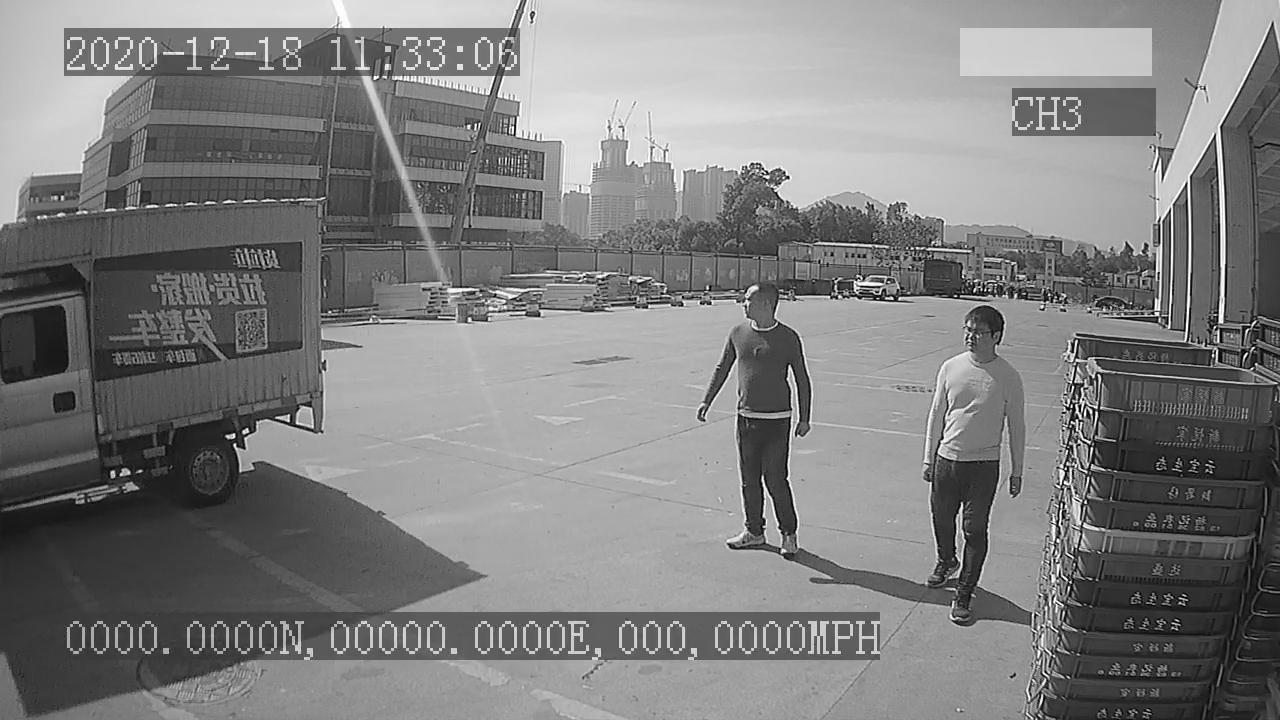person: (919, 301, 1034, 624), (691, 274, 818, 558)
